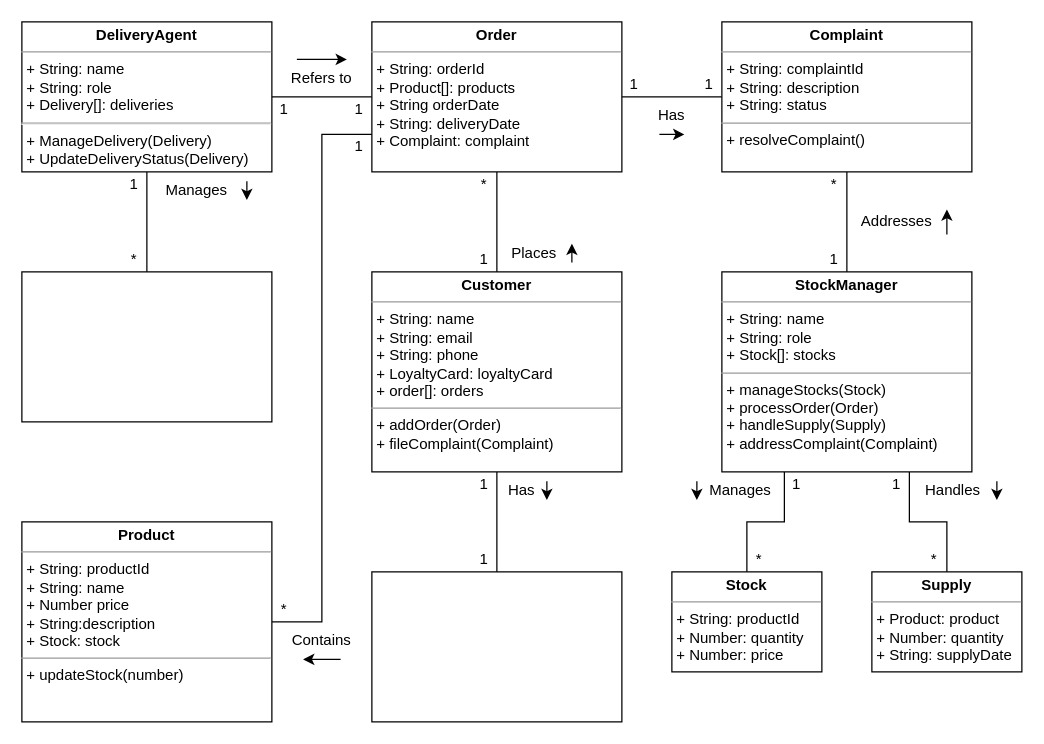
This 1044x744 diagram has some shape labels left out. Each missing label, with the box of its shape:
Delivery + String: deliveryId + String: status + Order: order + trackDelivery(): (21, 271, 272, 422)
LoyaltyCard + Number: points + redeemPoints(number) + earnPoints(number): (371, 571, 622, 722)
